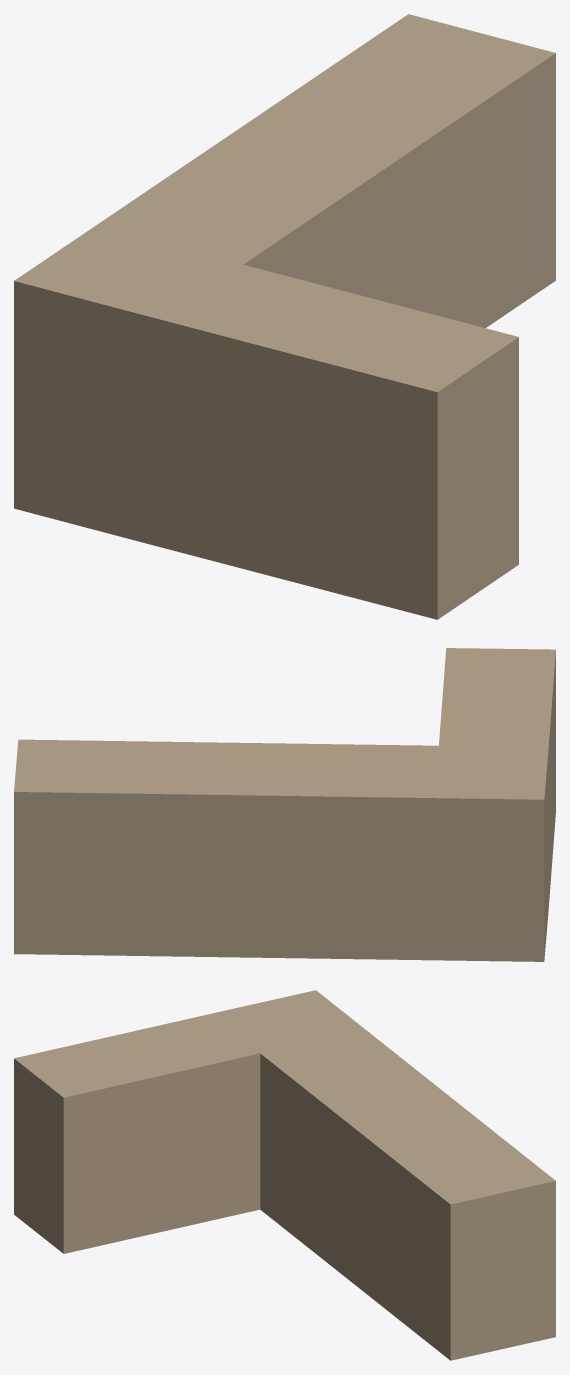
File: bld_101353615.dae
3 views of the same model, one above another, from view 1: azimuth 30°, elevation 25°; view 2: azimuth 150°, elevation 25°; view 3: azimuth 270°, elevation 25° (orthographic). The views are drawn at different scales.
Visible parts, largest first — view 1: bld_101353615; view 2: bld_101353615; view 3: bld_101353615.
Part boxes in pixels (x1,y1,x2,y2): bld_101353615: (14, 14, 555, 619); bld_101353615: (14, 648, 555, 961); bld_101353615: (14, 990, 555, 1360).
Bounding box in the file's own units: 23.54 × 25.15 × 8.
